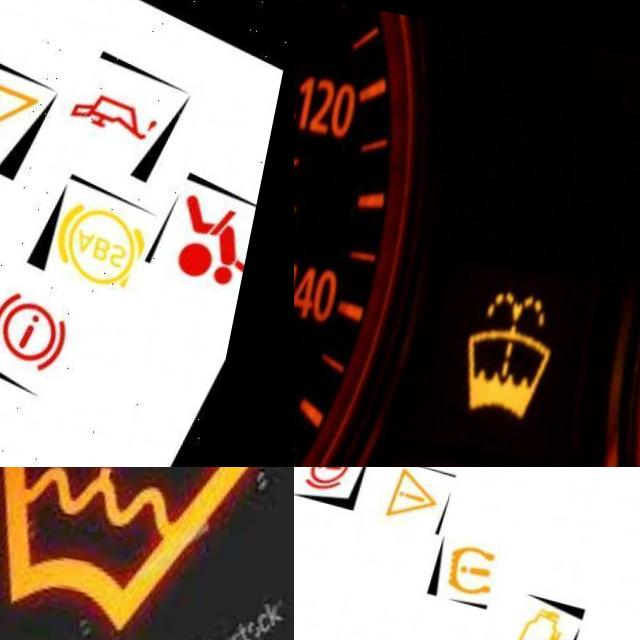Washer Fluid: (467, 277, 574, 409)
